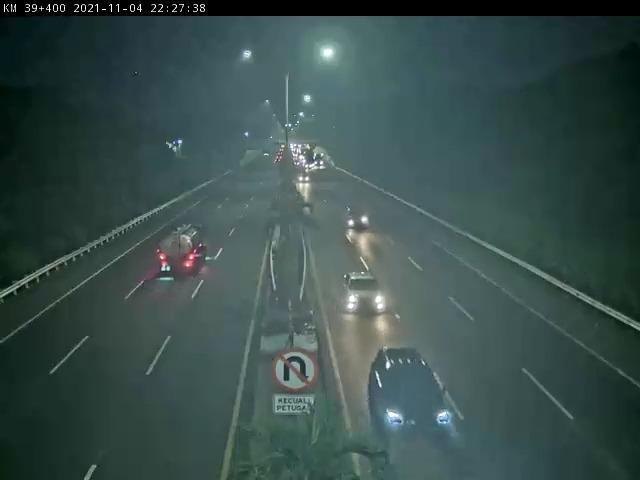car: (370, 348, 450, 438), (344, 273, 387, 314), (347, 209, 372, 231)
truck: (160, 228, 207, 276)
